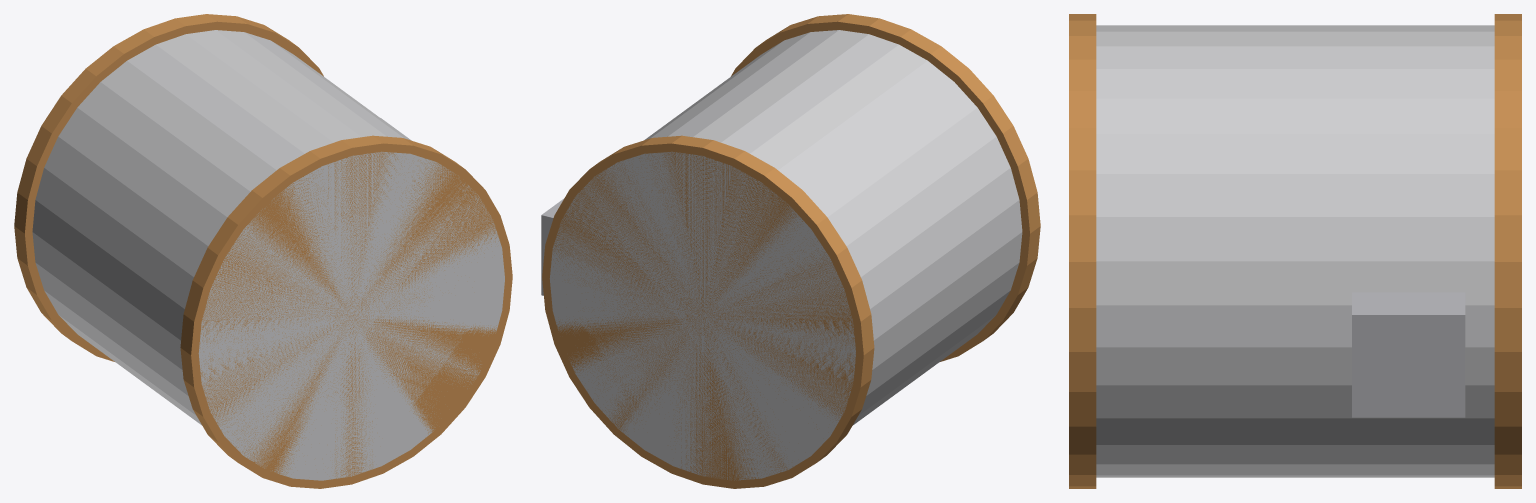
File: habitat.glb
3 renders of one model, left to right at view 1: azimuth 30°, elevation 25°; view 2: azimuth 150°, elevation 25°; view 3: azimuth 270°, elevation 25°, orthographic. The views are drawn at different scales.
Visible parts, largest first — view 1: geometry_0, geometry_1, geometry_2; view 2: geometry_0, geometry_2, geometry_1, geometry_3; view 3: geometry_0, geometry_3, geometry_1, geometry_2.
Part boxes in pixels (box(x1,y1,x2,y2)): geometry_0: box(32, 30, 504, 480); geometry_1: box(180, 135, 512, 488); geometry_2: box(14, 14, 323, 361); geometry_0: box(549, 30, 1022, 480); geometry_2: box(542, 135, 874, 488); geometry_1: box(731, 14, 1040, 361); geometry_3: box(541, 198, 564, 295); geometry_0: box(1096, 25, 1494, 477); geometry_3: box(1352, 292, 1465, 417); geometry_1: box(1069, 14, 1096, 488); geometry_2: box(1494, 14, 1521, 488).
Size of the model in its own units: 2.25 by 2.1 by 2.
